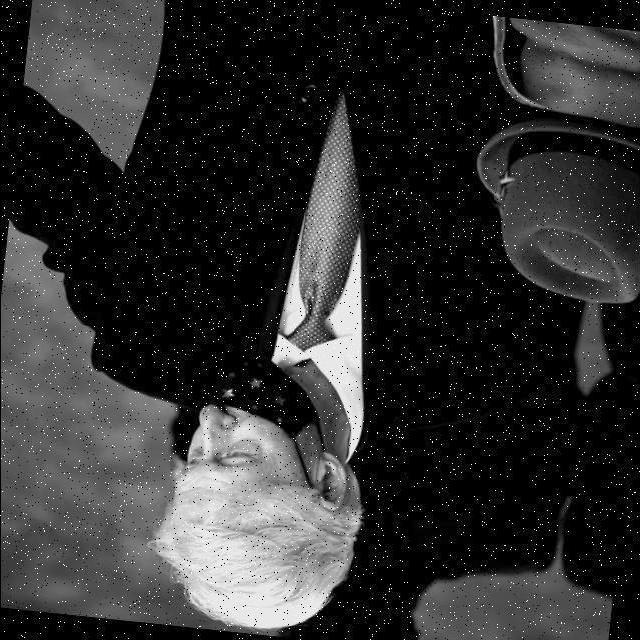mask: (198, 361, 308, 427)
no_gloves: (162, 479, 340, 625)
